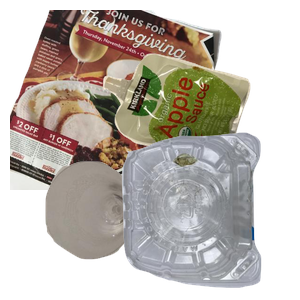glass: (43, 159, 187, 300)
paper: (10, 10, 224, 190)
plastic: (119, 130, 300, 300)
trash: (100, 51, 300, 214)
